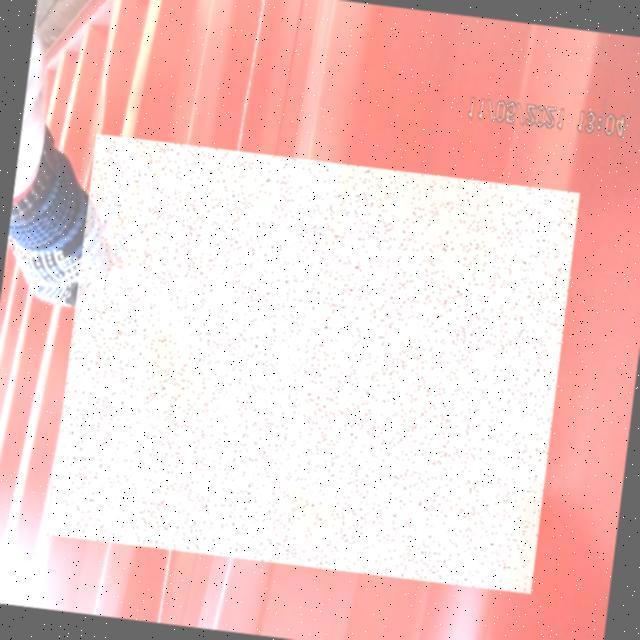Dent: (47, 133, 580, 593)
